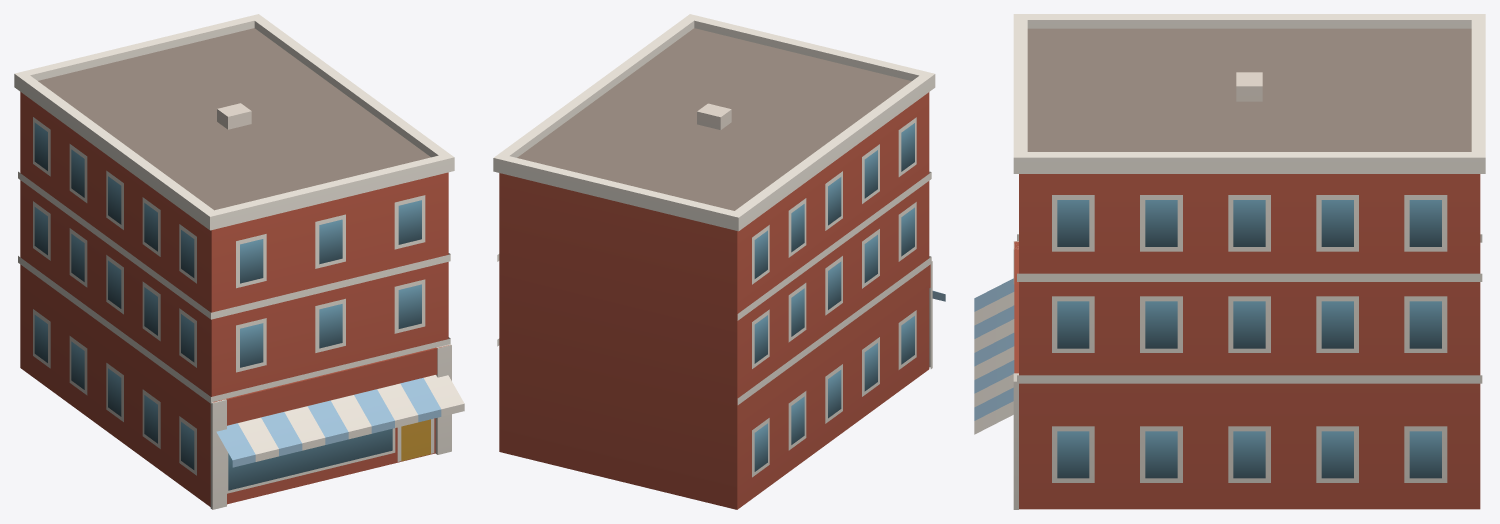
Rendered from boylston_s10_far.glb.
The picture shows the model from 3 angles, left to right: view 1: azimuth 30°, elevation 25°; view 2: azimuth 150°, elevation 25°; view 3: azimuth 270°, elevation 25°; orthographic projection. The views are drawn at different scales.
Visible parts, largest first — view 1: boylston_s10_far; view 2: boylston_s10_far; view 3: boylston_s10_far.
Boxes of the visible parts, box(x1,y1,x2,y2) form: boylston_s10_far: box(14, 14, 464, 509); boylston_s10_far: box(493, 14, 945, 509); boylston_s10_far: box(974, 14, 1485, 509).
Size of the model in its own units: 10.32 by 12.07 by 15.51.
Materials: 1 (1 with a texture image).
